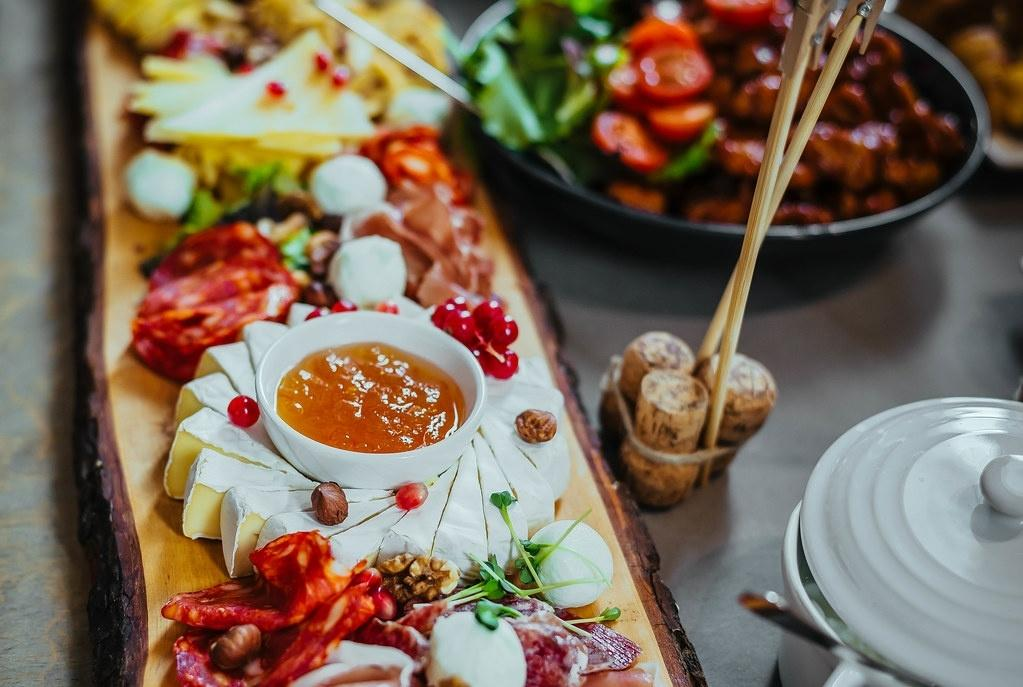sauce: (288, 332, 479, 447)
